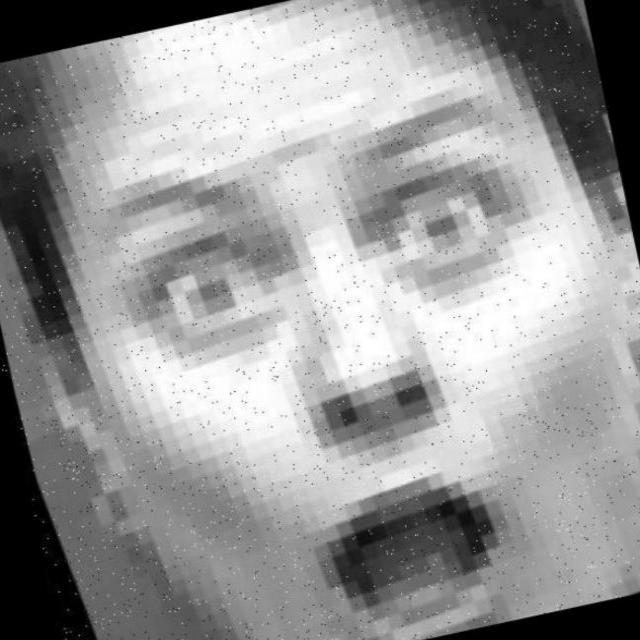surprised: (52, 90, 640, 640)
